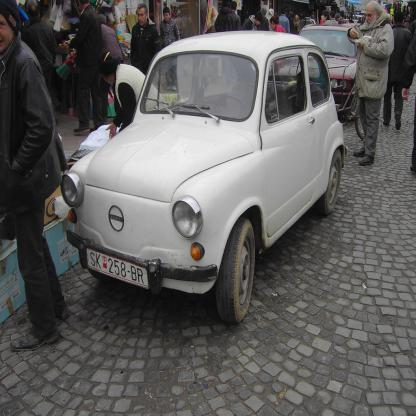Car: (60, 30, 348, 324), (275, 23, 359, 120)
